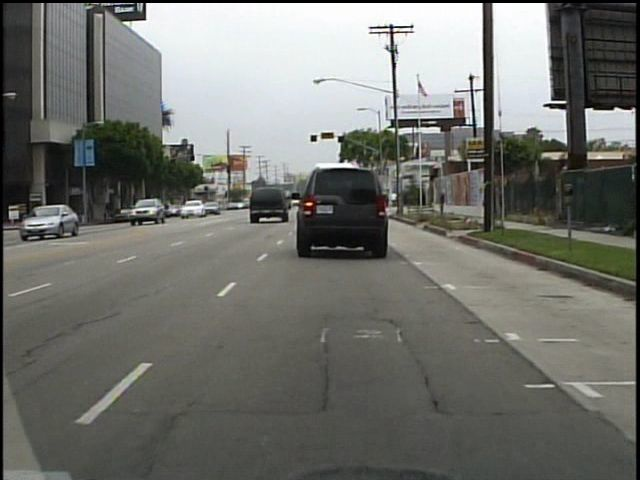person: (391, 189, 399, 207)
